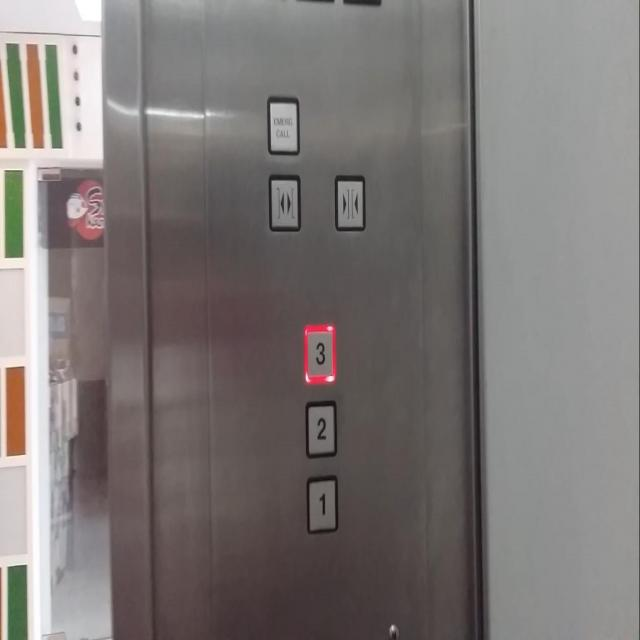1: (304, 474, 338, 534)
2: (303, 396, 338, 462)
3: (303, 322, 338, 386)
close: (333, 170, 366, 232)
open: (267, 173, 303, 232)
text: (266, 95, 300, 157)
